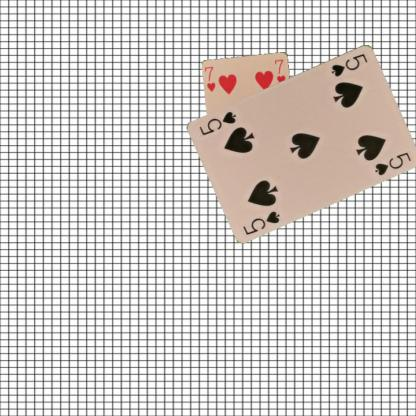5s: (240, 208, 282, 236), (329, 51, 369, 77)
7h: (202, 64, 217, 93)
